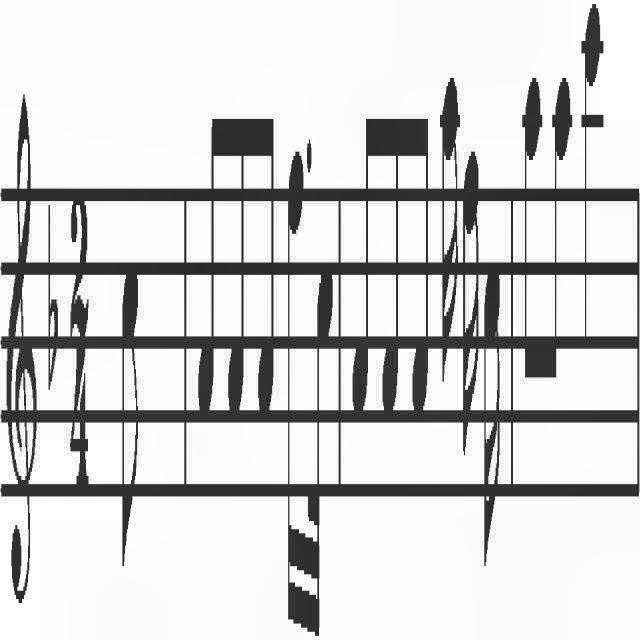Bass-clef: (0, 64, 40, 639)
Bemol: (44, 175, 61, 405)
Eighth-note: (404, 92, 432, 440), (190, 99, 218, 429), (377, 94, 403, 440), (549, 67, 575, 395), (520, 62, 544, 412), (255, 100, 279, 428), (226, 98, 248, 440), (119, 252, 141, 586), (351, 98, 374, 410)
Quarter-note: (579, 0, 605, 370)
Sixteenth-note: (283, 120, 305, 640), (439, 64, 461, 388), (482, 263, 502, 577), (461, 140, 479, 460)
